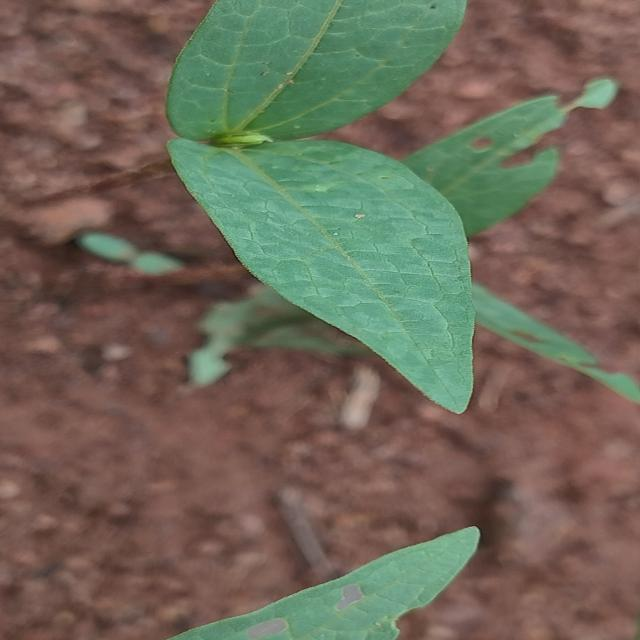Black gram_healthy: (168, 127, 476, 412)
